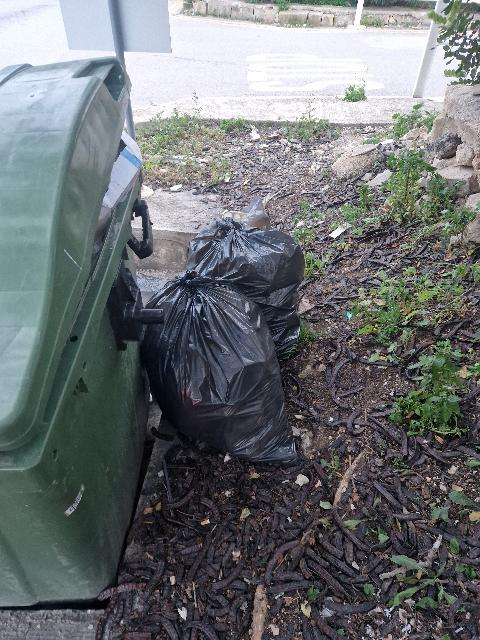Mixed -Black-: (141, 273, 298, 464), (185, 220, 304, 354)
